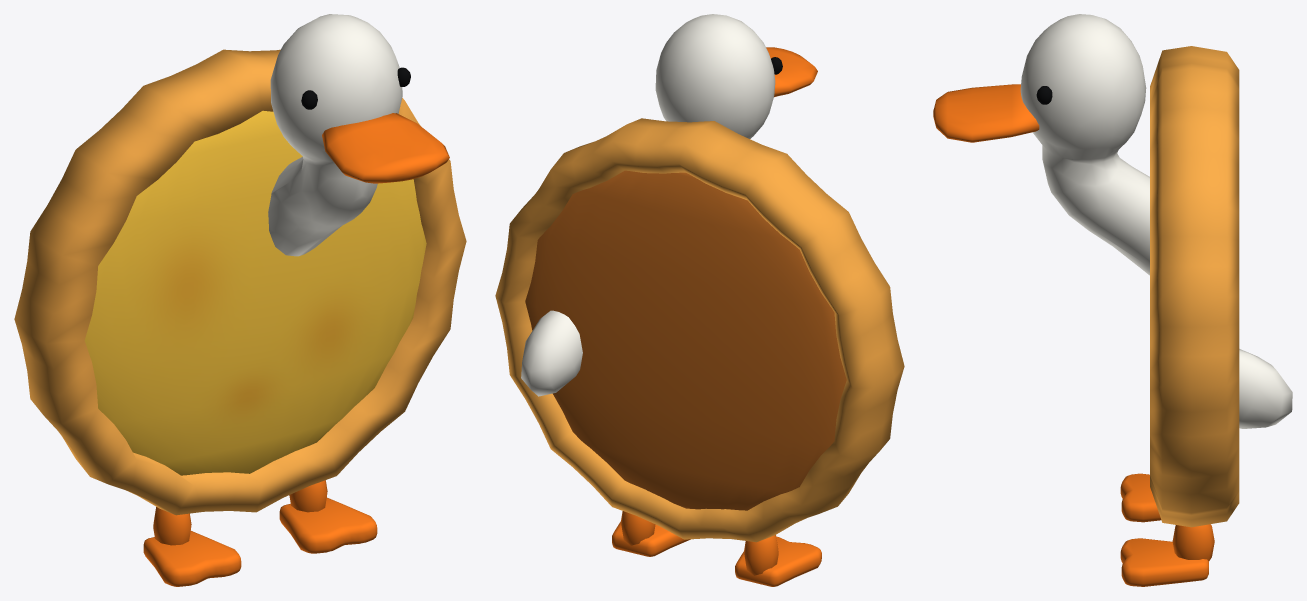
File: duck-eggtart.glb
3 views of the same model, side by side, from view 1: azimuth 30°, elevation 25°; view 2: azimuth 150°, elevation 25°; view 3: azimuth 270°, elevation 25° (orthographic). The views are drawn at different scales.
Parts seen in each view (by area): view 1: duck-eggtart; view 2: duck-eggtart; view 3: duck-eggtart.
Part boxes in pixels (box(x1,y1,x2,y2)): duck-eggtart: box(14, 14, 466, 586); duck-eggtart: box(495, 14, 904, 586); duck-eggtart: box(933, 14, 1292, 586).
Bounding box in the file's own units: 0.8085 × 1 × 0.603.
Materials: 1 (1 with a texture image).
